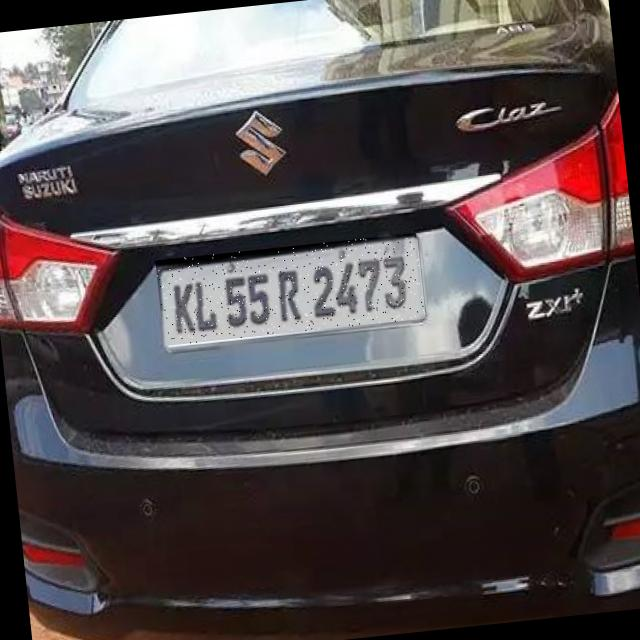Plate: (156, 234, 426, 347)
